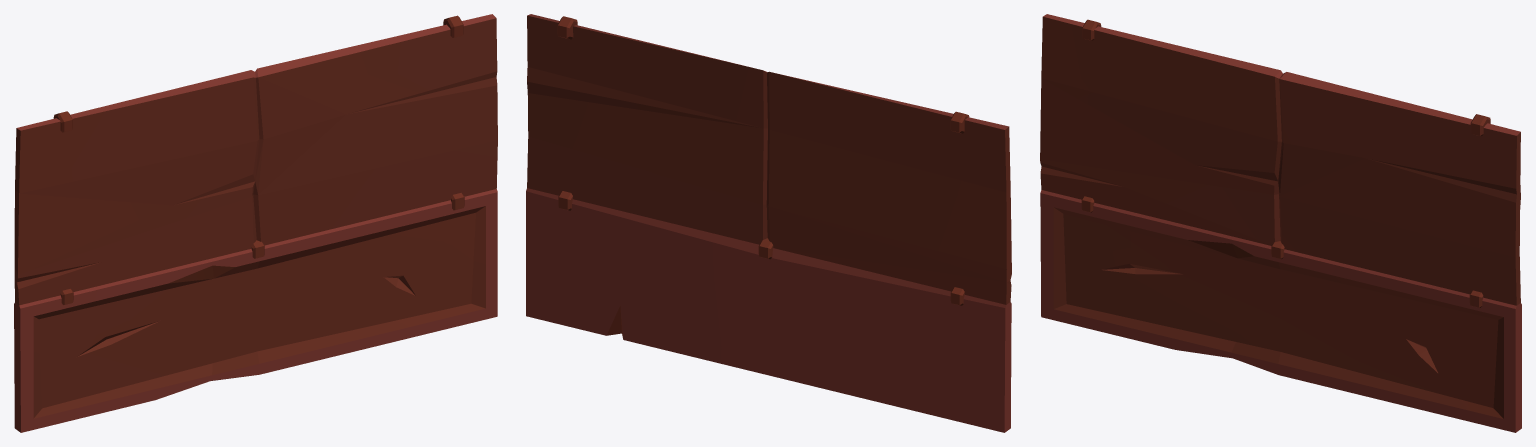
File: SM_Prop_Stall_Closed_01.glb
3 views of the same model, side by side, from view 1: azimuth 30°, elevation 25°; view 2: azimuth 150°, elevation 25°; view 3: azimuth 330°, elevation 25° (orthographic).
Visible parts, largest first — view 1: SM_Prop_Stall_Closed_01; view 2: SM_Prop_Stall_Closed_01; view 3: SM_Prop_Stall_Closed_01.
Boxes of the visible parts, x1,y1,x2,y2 form: SM_Prop_Stall_Closed_01: [14, 14, 497, 432]; SM_Prop_Stall_Closed_01: [526, 14, 1011, 432]; SM_Prop_Stall_Closed_01: [1040, 14, 1521, 432].
Bounding box in the file's own units: 367 × 224 × 14.8.
Materials: 1 (1 with a texture image).
